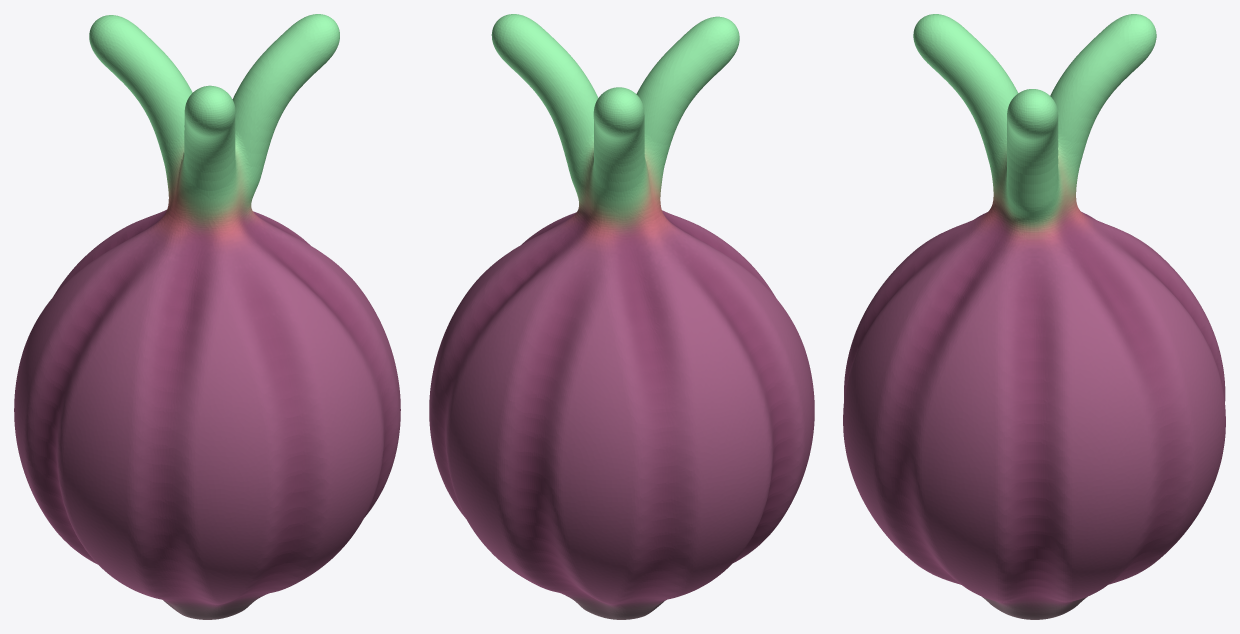
The model's file is onion-Mesh 785858.gltf.
3 views of the same model, side by side, from view 1: azimuth 30°, elevation 25°; view 2: azimuth 150°, elevation 25°; view 3: azimuth 270°, elevation 25° (orthographic).
Bounding box in the file's own units: 129 × 215 × 130.
Materials: 1 (1 with a texture image).
